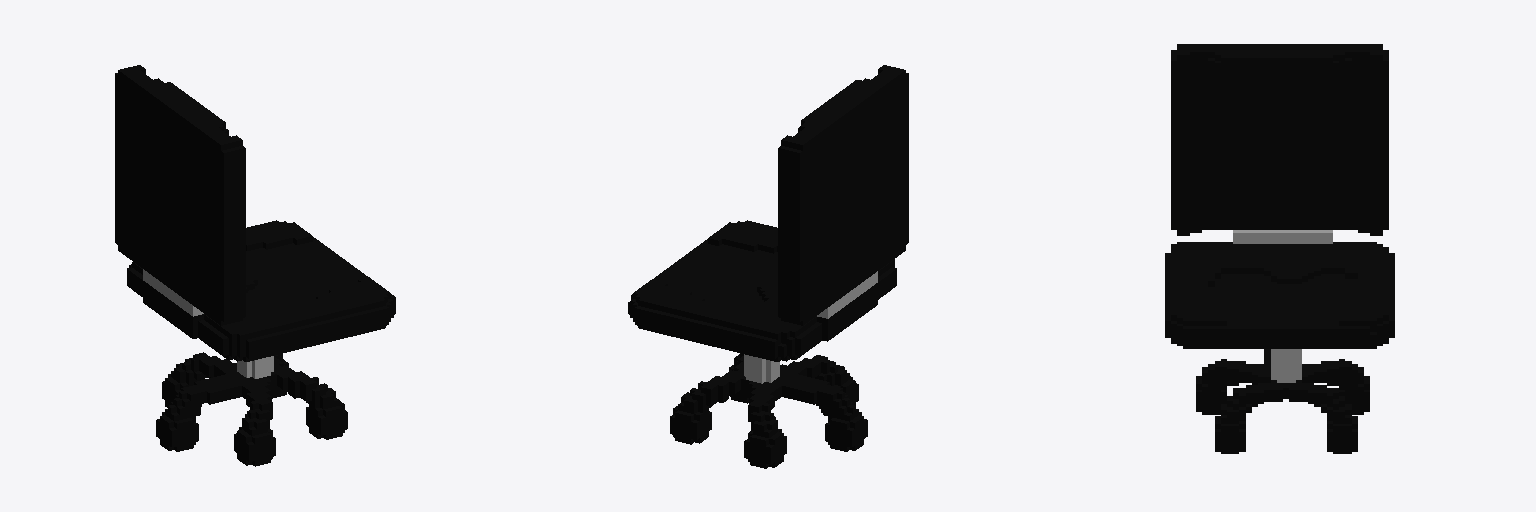
3 renders of one model, left to right at view 1: azimuth 30°, elevation 25°; view 2: azimuth 150°, elevation 25°; view 3: azimuth 270°, elevation 25°, orthographic.
Visible parts, largest first — view 1: object 1; view 2: object 1; view 3: object 1.
Boxes of the visible parts, x1=… form: object 1: x1=115, y1=65, x2=395, y2=466; object 1: x1=628, y1=65, x2=908, y2=468; object 1: x1=1165, y1=44, x2=1394, y2=453.
Bounding box in the file's own units: 3.4 × 6 × 3.7.
Materials: 1 (1 with a texture image).